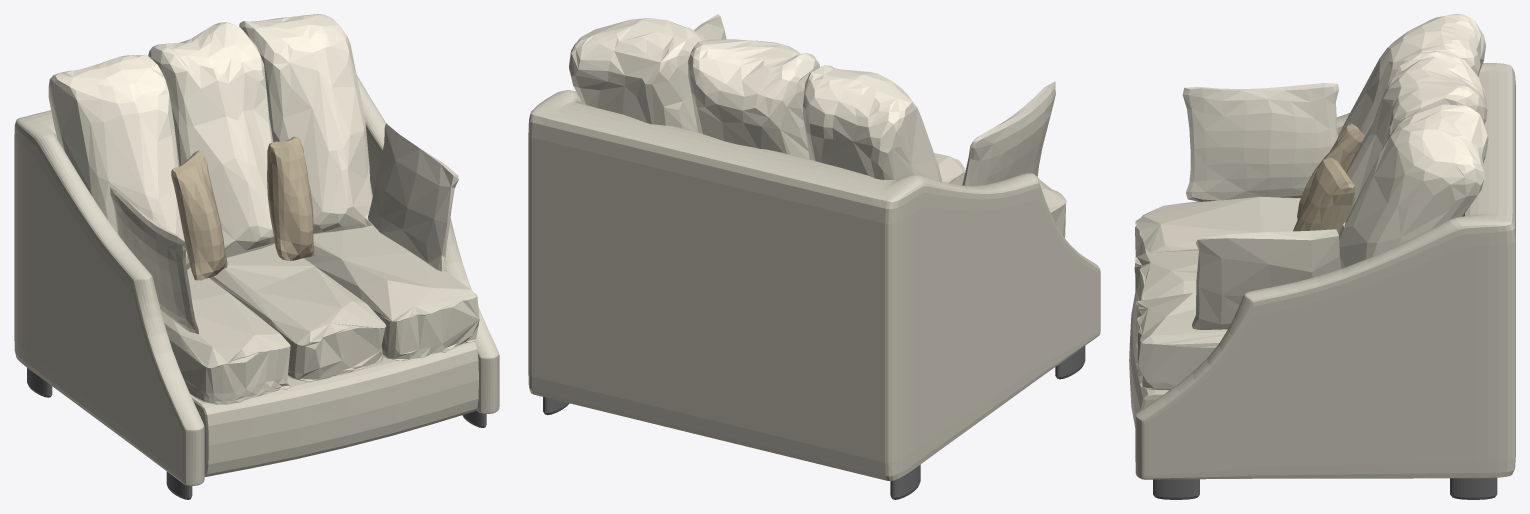
Rendered from sh-scopia-beige-sofa.glb.
3 views of the same model, side by side, from view 1: azimuth 30°, elevation 25°; view 2: azimuth 150°, elevation 25°; view 3: azimuth 270°, elevation 25° (orthographic). The views are drawn at different scales.
Parts seen in each view (by area): view 1: back_Plane.001, bigcushion3_Cube.015, cushion_clear3_Cube.007, cushion_dark_Cube.028, leg2_Cylinder.001; view 2: back_Plane.001, bigcushion3_Cube.015, cushion_clear3_Cube.007, leg2_Cylinder.001; view 3: back_Plane.001, bigcushion3_Cube.015, cushion_clear3_Cube.007, cushion_dark_Cube.028, leg2_Cylinder.001.
Boxes of the visible parts, x1,y1,x2,y2 form: back_Plane.001: [14, 75, 499, 485]; bigcushion3_Cube.015: [48, 14, 372, 269]; cushion_clear3_Cube.007: [110, 123, 458, 334]; cushion_dark_Cube.028: [171, 136, 314, 280]; leg2_Cylinder.001: [27, 368, 486, 499]; back_Plane.001: [528, 90, 1100, 480]; bigcushion3_Cube.015: [569, 18, 941, 181]; cushion_clear3_Cube.007: [694, 14, 1055, 186]; leg2_Cylinder.001: [543, 346, 1085, 499]; back_Plane.001: [1129, 63, 1515, 479]; bigcushion3_Cube.015: [1337, 14, 1488, 268]; cushion_clear3_Cube.007: [1182, 83, 1341, 329]; cushion_dark_Cube.028: [1293, 123, 1365, 234]; leg2_Cylinder.001: [1153, 478, 1497, 499].
Size of the model in its own units: 1 by 1 by 1.
